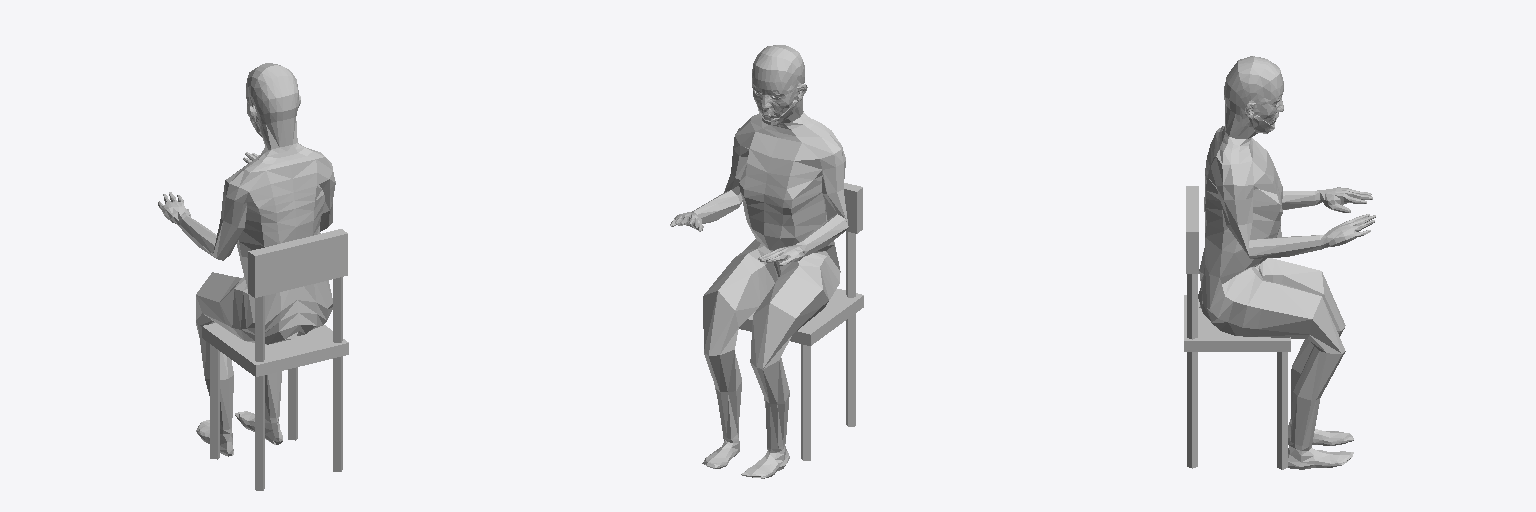
File: amigaguy_000001.obj
3 renders of one model, left to right at view 1: azimuth 30°, elevation 25°; view 2: azimuth 150°, elevation 25°; view 3: azimuth 270°, elevation 25°, orthographic.
Visible parts, largest first — view 1: Cube, Cube.001_Cube.002; view 2: Cube, Cube.001_Cube.002; view 3: Cube, Cube.001_Cube.002.
Boxes of the visible parts, box(x1,y1,x2,y2) form: Cube: box(158, 63, 335, 456); Cube.001_Cube.002: box(202, 229, 348, 490); Cube: box(670, 45, 848, 478); Cube.001_Cube.002: box(723, 183, 863, 460); Cube: box(1198, 56, 1375, 469); Cube.001_Cube.002: box(1184, 186, 1290, 469).
Bounding box in the file's own units: 24.88 × 76.26 × 33.48.